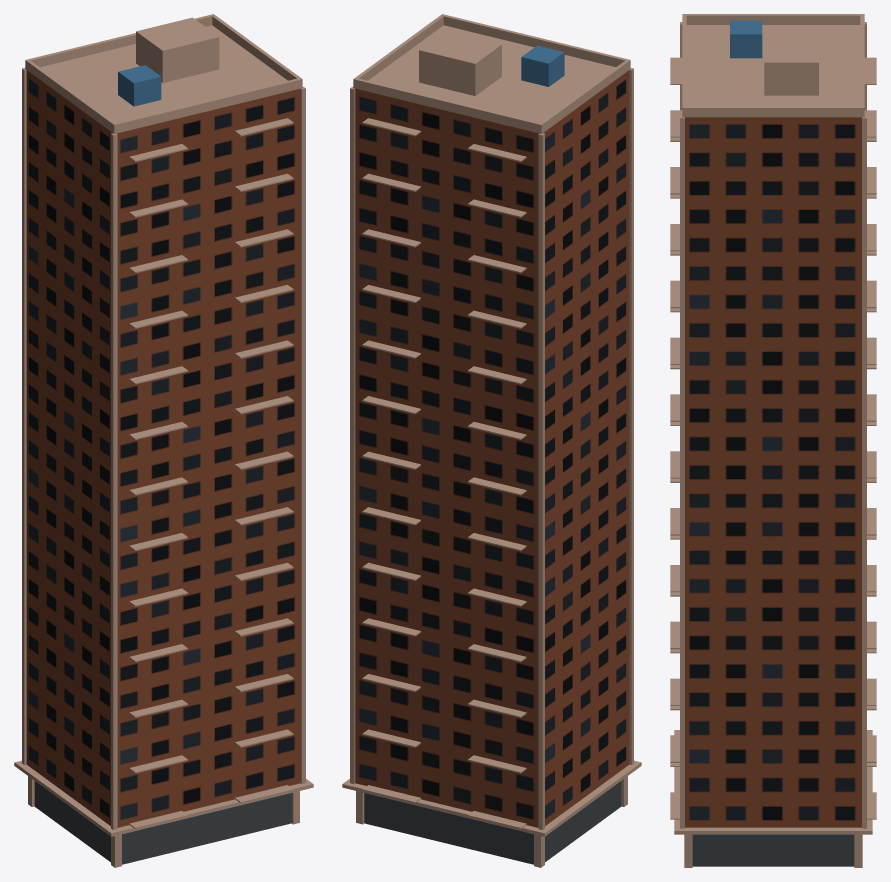
The model's file is predio_5.glb.
3 renders of one model, left to right at view 1: azimuth 30°, elevation 25°; view 2: azimuth 150°, elevation 25°; view 3: azimuth 270°, elevation 25°, orthographic. The views are drawn at different scales.
Parts seen in each view (by area): view 1: fachada, con, ter, cx; view 2: fachada, con, ter, cx; view 3: fachada, con, ter, cx.
Boxes of the visible parts, left/top/right/bottom form: fachada: left=26, top=70, right=300, bottom=827; con: left=14, top=14, right=313, bottom=867; ter: left=34, top=781, right=291, bottom=864; cx: left=118, top=65, right=161, bottom=106; fachada: left=355, top=70, right=629, bottom=827; con: left=342, top=14, right=641, bottom=867; ter: left=364, top=781, right=621, bottom=864; cx: left=521, top=45, right=564, bottom=86; fachada: left=685, top=117, right=861, bottom=827; con: left=670, top=14, right=876, bottom=867; ter: left=692, top=834, right=854, bottom=866; cx: left=730, top=20, right=762, bottom=58.
Size of the model in its own units: 23.6 by 85.6 by 20.4.
Materials: 4 (1 with a texture image).
